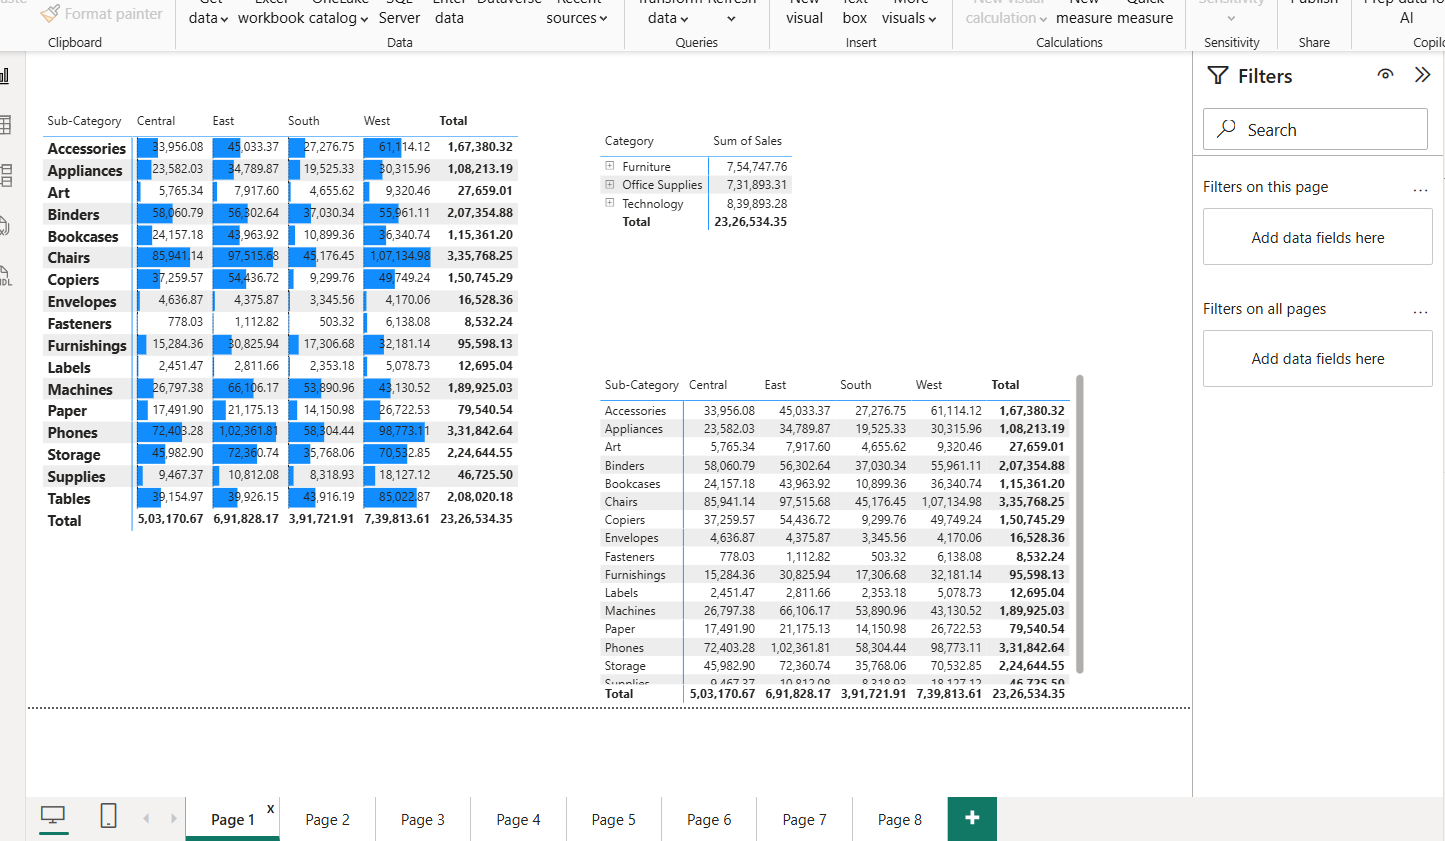

What the dashboard file says about the page in this screenshot:
{"tool":"powerbi","page":{"name":"Page 1","canvas":[1280,720],"ordinal":0},"visuals":[{"type":"pivotTable","fields":{"Rows":["Orders.Sub-Category"],"Values":["Sum(Orders.Sales)"],"Columns":["Orders.Region"]},"box":[13.7,60.4,579.1,481.6],"z":0},{"type":"pivotTable","fields":{"Rows":["Orders.Sub-Category"],"Columns":["Orders.Region"],"Values":["Sum(Orders.Sales)"]},"box":[625.7,349.9,540.7,370.5],"z":1000},{"type":"pivotTable","fields":{"Rows":["Orders.Category","Orders.Region","Orders.Sub-Category"],"Values":["Sum(Orders.Sales)"]},"box":[625.7,82.3,613.4,172.9],"z":2000}]}

Visuals, with their boxes on the page's 1280x720 design canvas (x1, y1, x2, y2). These are canvas units, not pixel positions in the 1445x841 screenshot, which may show the page scaled, cropped or inside an application window:
pivotTable - Orders.Sub-Category x Sum(Orders.Sales): <box>14,60,593,542</box>
pivotTable - Orders.Sub-Category x Orders.Region: <box>626,350,1166,720</box>
pivotTable - Orders.Category x Orders.Region: <box>626,82,1239,255</box>
